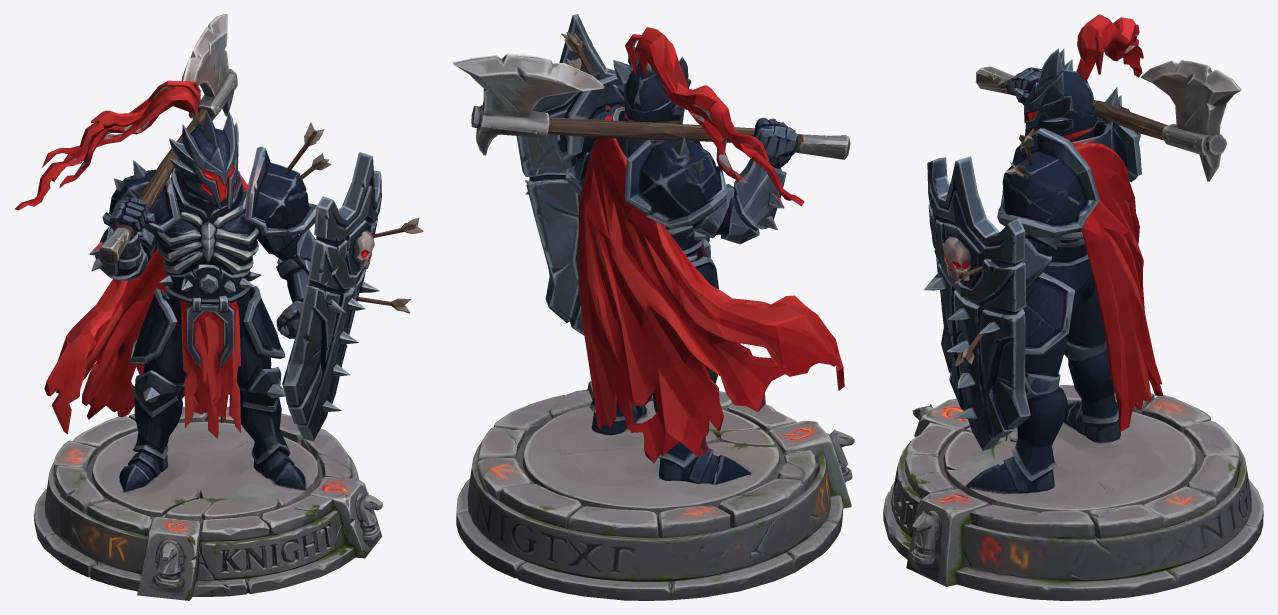
The model's file is ironbound_knight.glb.
3 renders of one model, left to right at view 1: azimuth 30°, elevation 25°; view 2: azimuth 150°, elevation 25°; view 3: azimuth 270°, elevation 25°, orthographic. The views are drawn at different scales.
Visible parts, largest first — view 1: Mesh_0; view 2: Mesh_0; view 3: Mesh_0.
Boxes of the visible parts, box(x1,y1,x2,y2) form: Mesh_0: box(14, 14, 423, 600); Mesh_0: box(452, 14, 854, 600); Mesh_0: box(883, 14, 1263, 600).
Bounding box in the file's own units: 1.48 × 1.9 × 1.33.
1 material, 1 textured.
